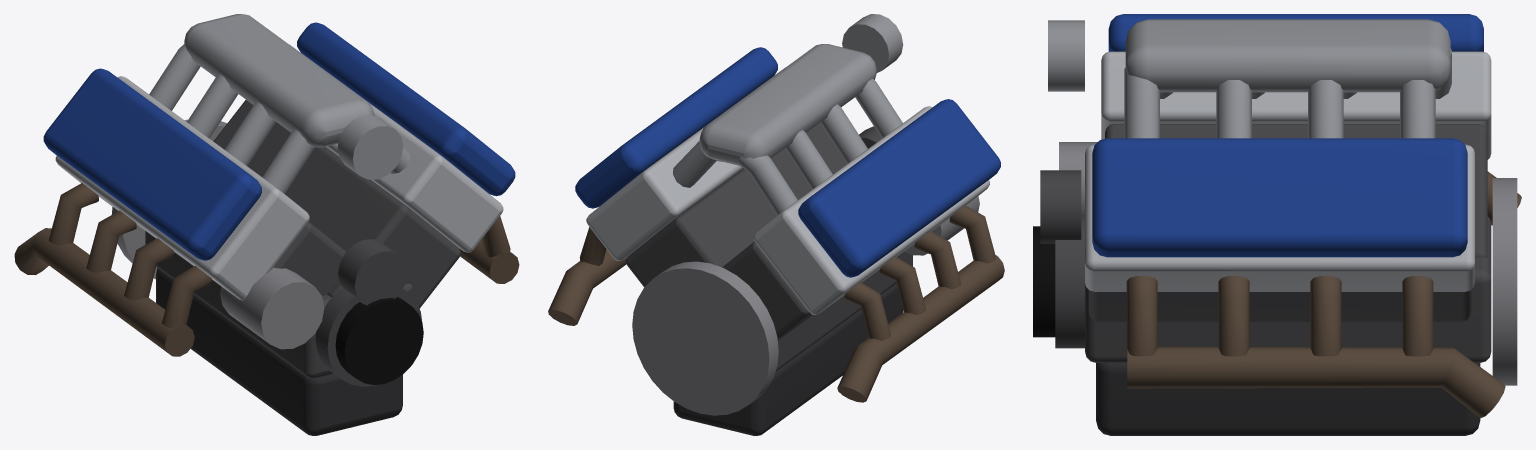
Rendered from ventura_v8_5l0_na.glb.
3 renders of one model, left to right at view 1: azimuth 30°, elevation 25°; view 2: azimuth 150°, elevation 25°; view 3: azimuth 270°, elevation 25°, orthographic. The views are drawn at different scales.
Parts seen in each view (by area): view 1: ventura_v8_5l0_na; view 2: ventura_v8_5l0_na; view 3: ventura_v8_5l0_na.
Part boxes in pixels (<box>): ventura_v8_5l0_na: <box>14,14,519,435</box>; ventura_v8_5l0_na: <box>548,14,1004,435</box>; ventura_v8_5l0_na: <box>1033,14,1521,435</box>.
Size of the model in its own units: 0.6596 by 0.5767 by 0.6584.
